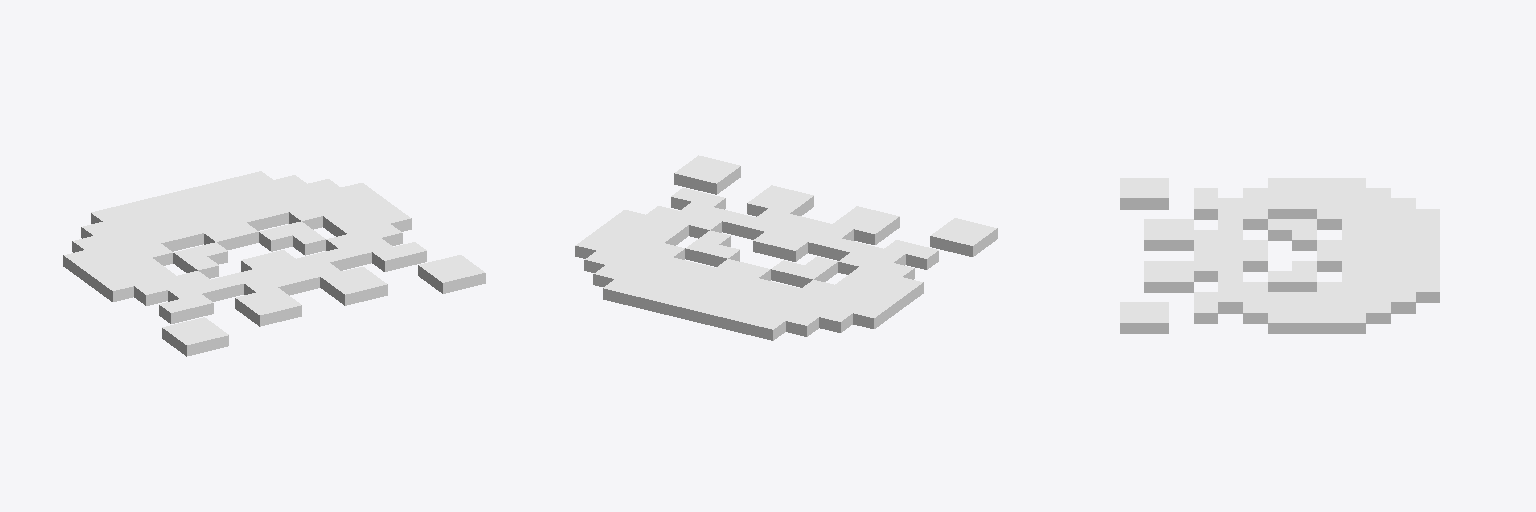
Rendered from Spider1-0-spider-02.obj.
The picture shows the model from 3 angles: view 1: azimuth 30°, elevation 25°; view 2: azimuth 150°, elevation 25°; view 3: azimuth 270°, elevation 25°; orthographic projection.
Visible parts, largest first — view 1: spider-02; view 2: spider-02; view 3: spider-02.
Part boxes in pixels (left/top/right/bottom): spider-02: left=63, top=171, right=485, bottom=356; spider-02: left=575, top=155, right=997, bottom=340; spider-02: left=1120, top=178, right=1439, bottom=333.
Bounding box in the file's own units: 5.6 × 0.2 × 5.2.